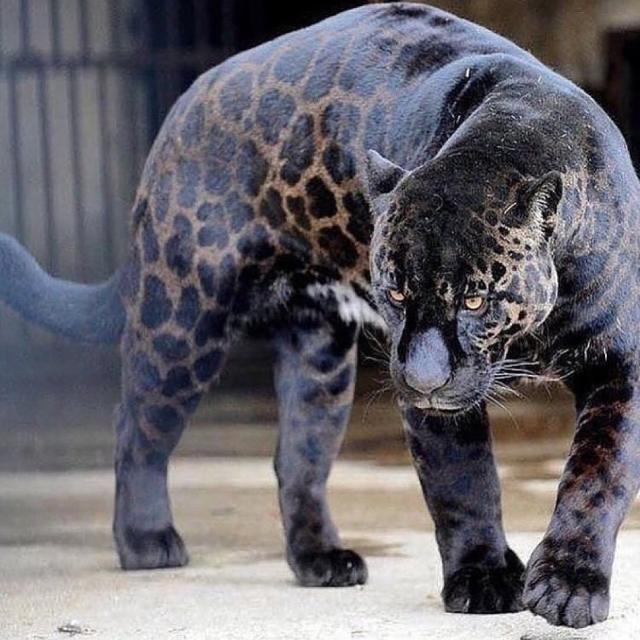Jaguar: (106, 4, 622, 623)
